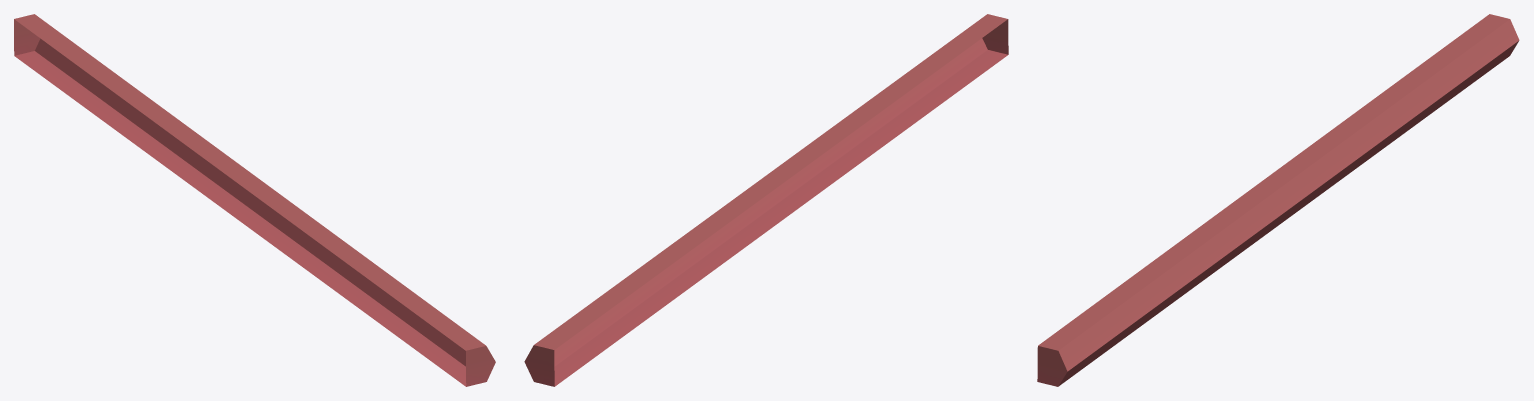
Rendered from Office_Cornice.fbx.
3 views of the same model, side by side, from view 1: azimuth 30°, elevation 25°; view 2: azimuth 150°, elevation 25°; view 3: azimuth 330°, elevation 25° (orthographic).
Visible parts, largest first — view 1: Office_Cornice; view 2: Office_Cornice; view 3: Office_Cornice.
Boxes of the visible parts, x1,y1,x2,y2 form: Office_Cornice: [14, 14, 495, 386]; Office_Cornice: [524, 14, 1008, 386]; Office_Cornice: [1037, 14, 1519, 386].
Bounding box in the file's own units: 14 × 16.51 × 366.
